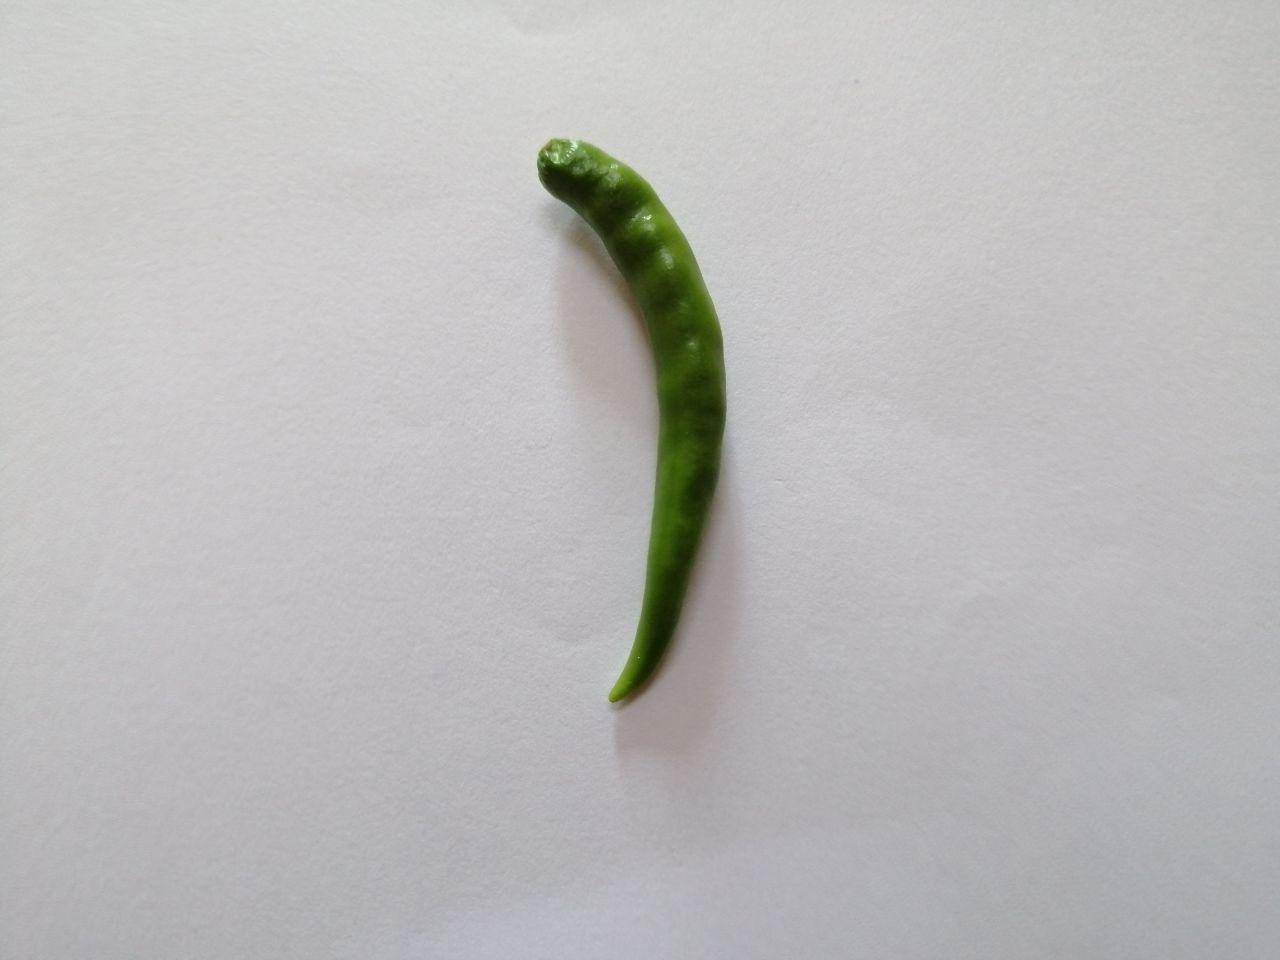lada hijau: (512, 114, 760, 753)
